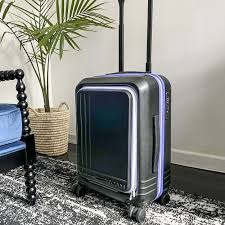suitcase: (68, 1, 174, 223)
